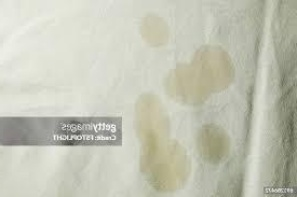oil: (136, 96, 186, 187), (164, 52, 231, 98), (194, 127, 233, 156), (140, 12, 173, 45)
